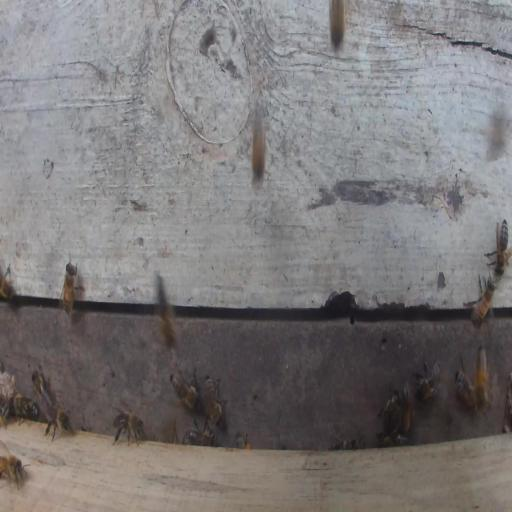nonpollenbee: (463, 274, 497, 330), (60, 253, 84, 321), (484, 219, 509, 277), (203, 374, 227, 429), (454, 357, 479, 409), (169, 373, 200, 414), (112, 410, 146, 447), (413, 360, 441, 403), (0, 448, 28, 491), (251, 104, 265, 184), (44, 404, 71, 441), (475, 345, 491, 406), (378, 389, 401, 430), (31, 367, 53, 408), (185, 418, 217, 446), (12, 393, 40, 422), (329, 0, 345, 50), (0, 262, 16, 301), (401, 382, 412, 435), (376, 430, 409, 447), (0, 402, 9, 428)
pollen: (246, 443, 251, 449)
pollenbee: (235, 432, 252, 449)
